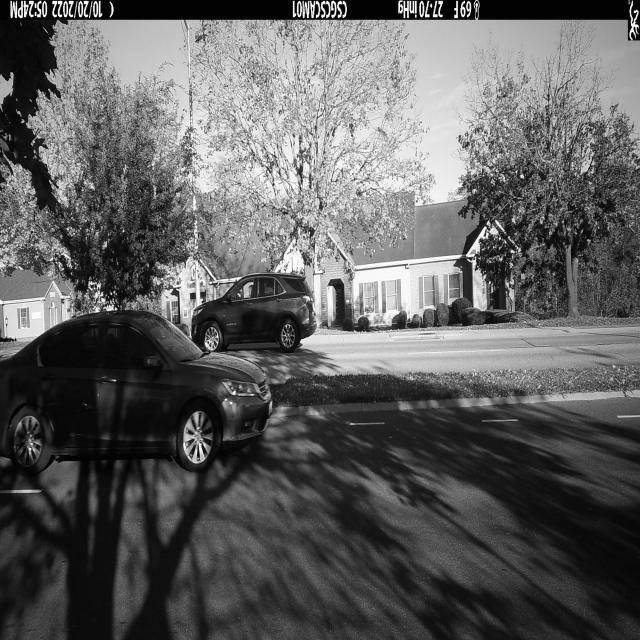Sedan: (0, 311, 274, 473)
